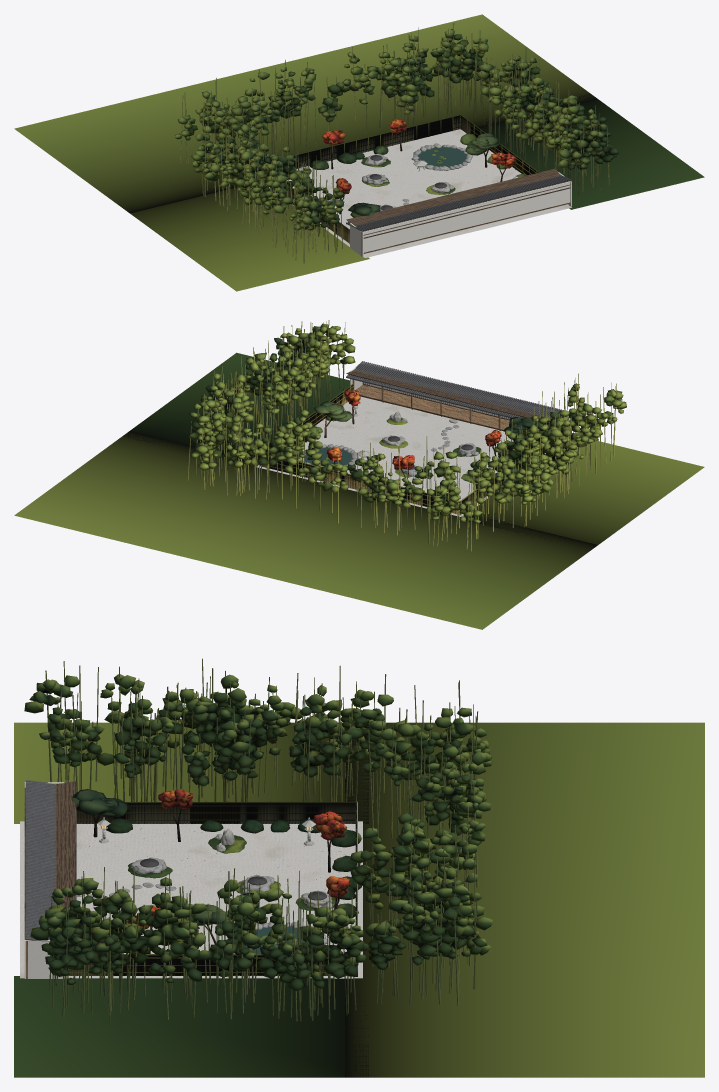
File: zen.glb
3 renders of one model, top to bottom at view 1: azimuth 30°, elevation 25°; view 2: azimuth 150°, elevation 25°; view 3: azimuth 270°, elevation 25°, orthographic. The views are drawn at different scales.
Parts seen in each view (by area): view 1: plants, fence, deck, gravel, stone, water; view 2: plants, fence, gravel, deck, stone; view 3: plants, fence, gravel, deck, stone.
Part boxes in pixels (x1,y1,x2,y2): plants: (14, 14, 704, 291); fence: (180, 23, 609, 263); deck: (346, 168, 571, 256); gravel: (269, 129, 571, 257); stone: (297, 143, 517, 211); water: (417, 146, 467, 167); plants: (14, 323, 704, 629); fence: (187, 320, 616, 551); gravel: (256, 396, 545, 516); deck: (346, 361, 570, 437); stone: (300, 404, 479, 478); plants: (14, 674, 704, 1077); fence: (45, 658, 478, 1021); gravel: (20, 821, 362, 978); deck: (24, 780, 76, 978); stone: (76, 817, 333, 953).
Size of what is drawn, in the model's own units: 70 by 11.68 by 57.6.
7 materials, 4 textured.
